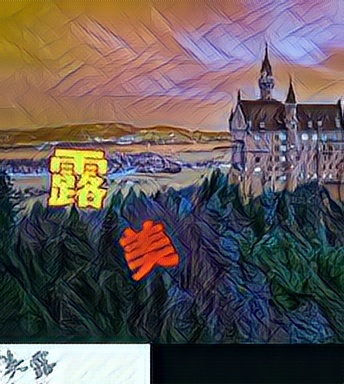C2B6: (44, 145, 111, 209)
C3C0: (116, 218, 183, 282)
